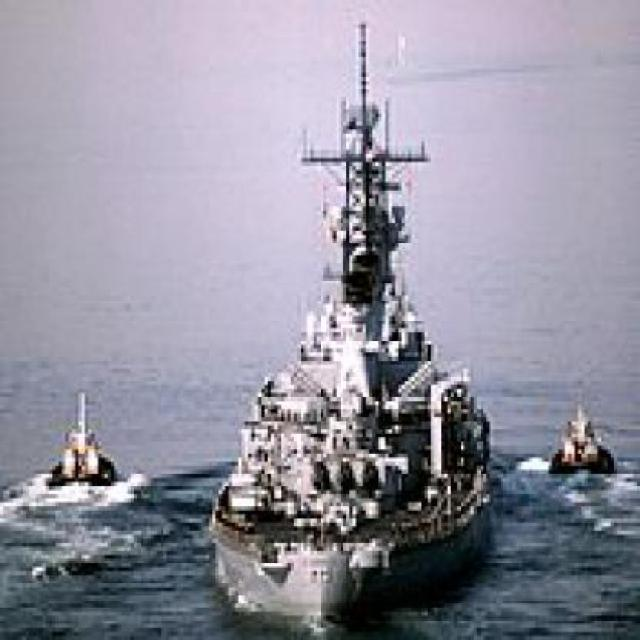warship2: (207, 22, 504, 637)
